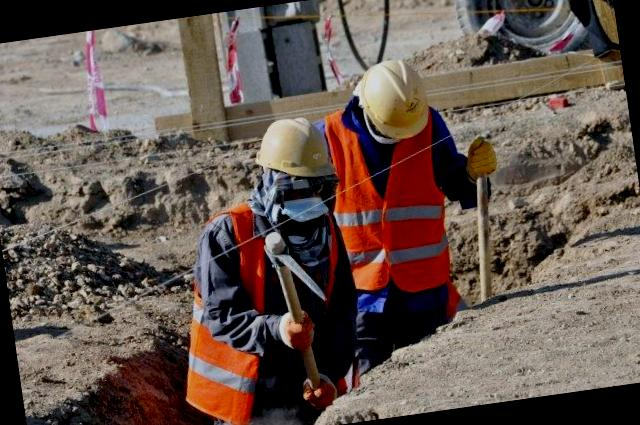helmet: (252, 107, 340, 189), (354, 58, 434, 146)
person: (165, 115, 374, 409), (317, 49, 496, 331)
